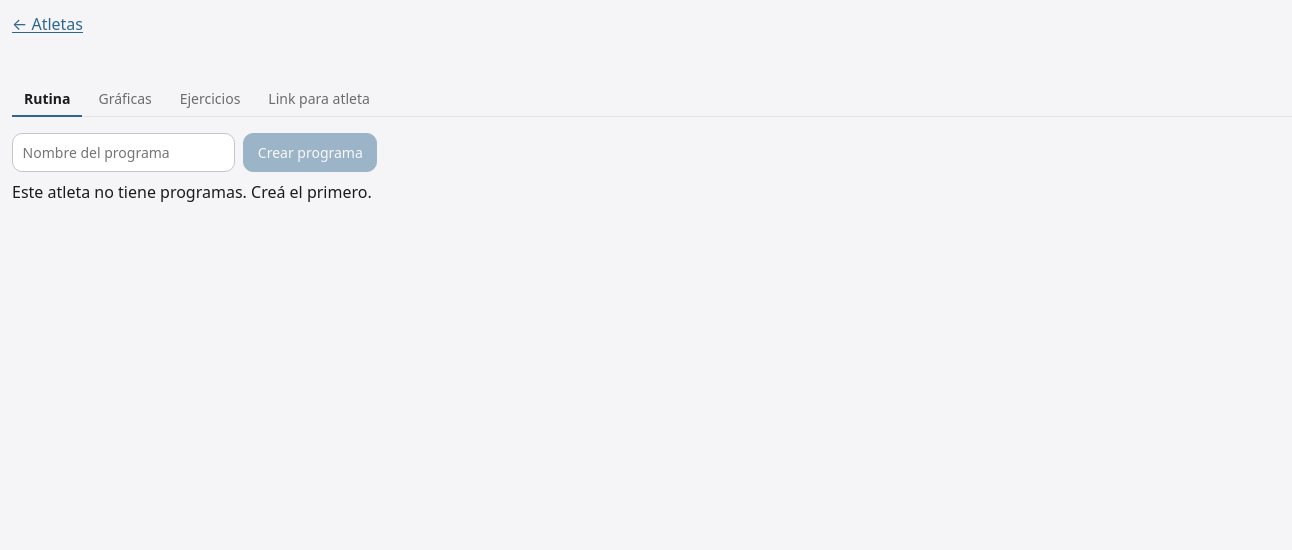
Test: las rutas › las gráficas son una pestaña más y no otra dirección
Click the tab "Gráficas".
click(125, 100)  # box [86,82,164,118]
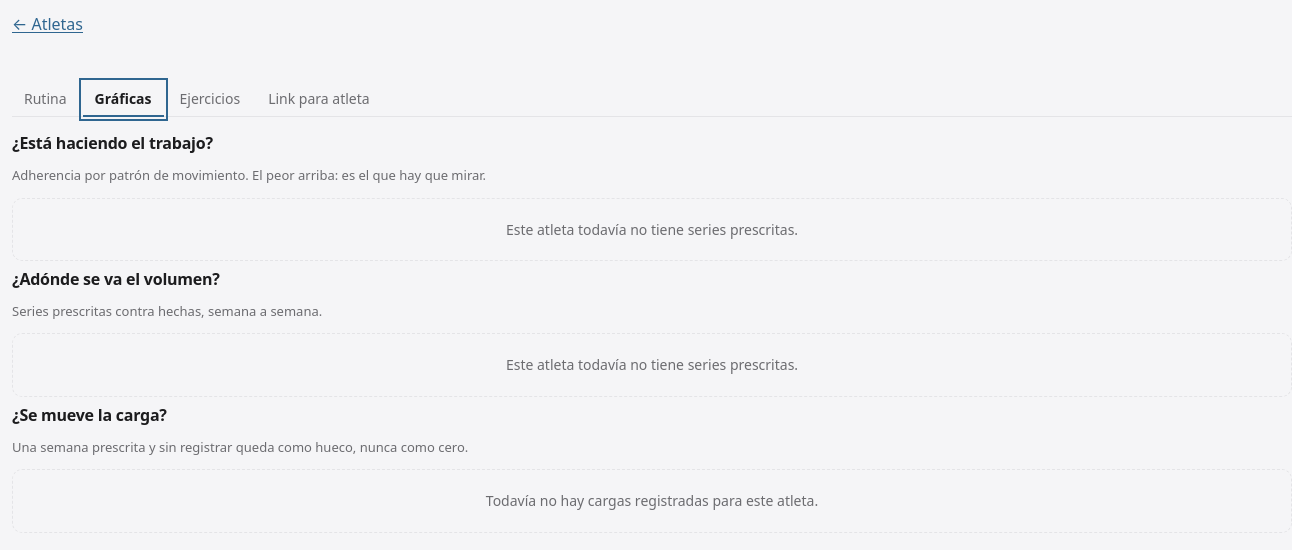
Check: the heading "¿Está haciendo el trabajo?" is shown, box [12,132,213,154]
